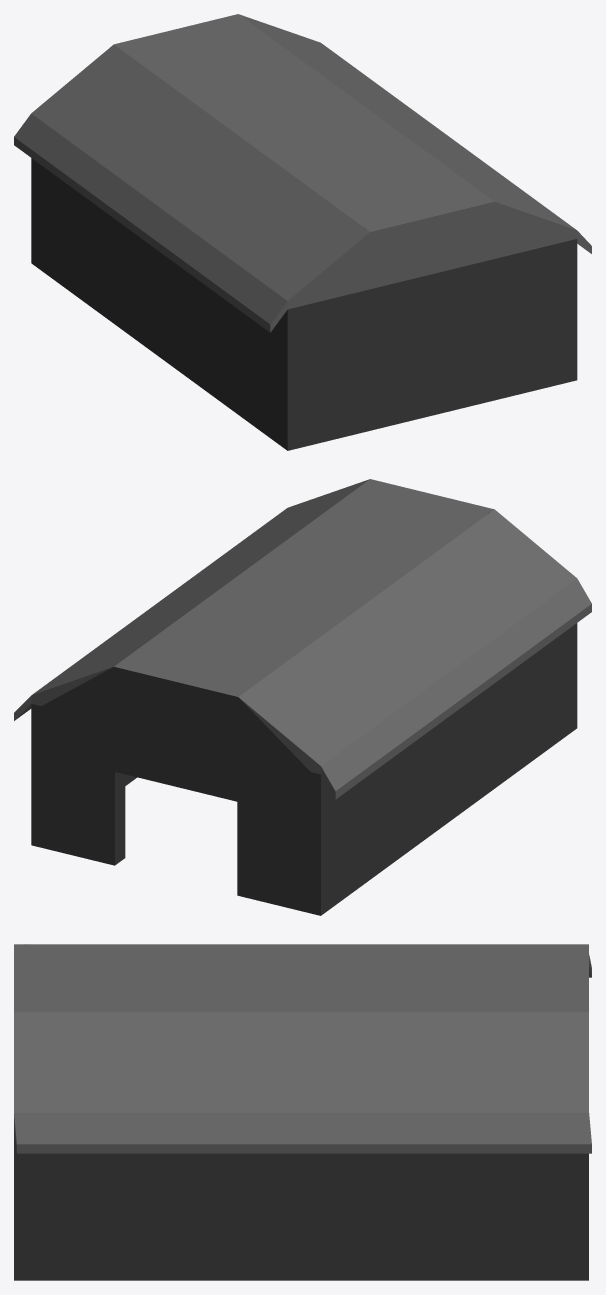
The model's file is WareHouse.fbx.
3 views of the same model, one above another, from view 1: azimuth 30°, elevation 25°; view 2: azimuth 150°, elevation 25°; view 3: azimuth 270°, elevation 25° (orthographic). The views are drawn at different scales.
Parts seen in each view (by area): view 1: Cube; view 2: Cube; view 3: Cube.
Part boxes in pixels (x1=…): Cube: x1=14, y1=14, x2=591, y2=450; Cube: x1=14, y1=479, x2=591, y2=915; Cube: x1=14, y1=944, x2=591, y2=1280.
Size of the model in its own units: 63.46 by 37.48 by 88.1.
Materials: 1 (1 with a texture image).
